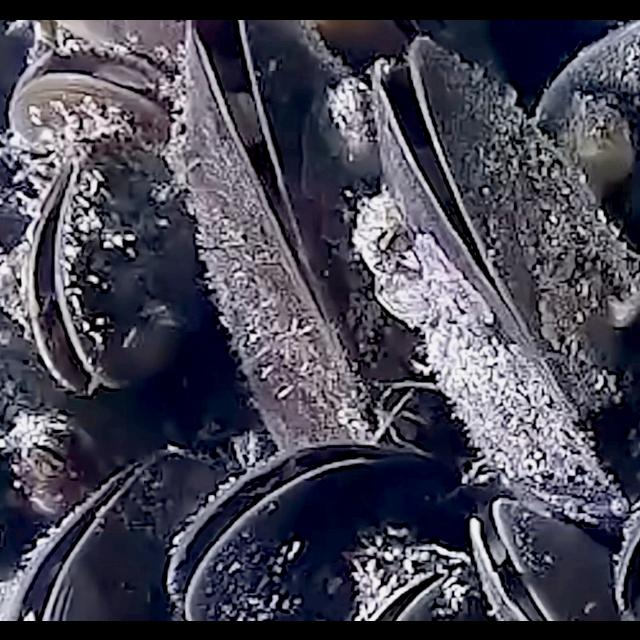Oyster-Closed: (534, 19, 640, 255)
Oyster-Open: (361, 34, 640, 524), (168, 19, 432, 455), (172, 438, 446, 620), (18, 129, 198, 399), (8, 450, 234, 620), (12, 32, 186, 178), (472, 496, 628, 620), (368, 558, 464, 620)
